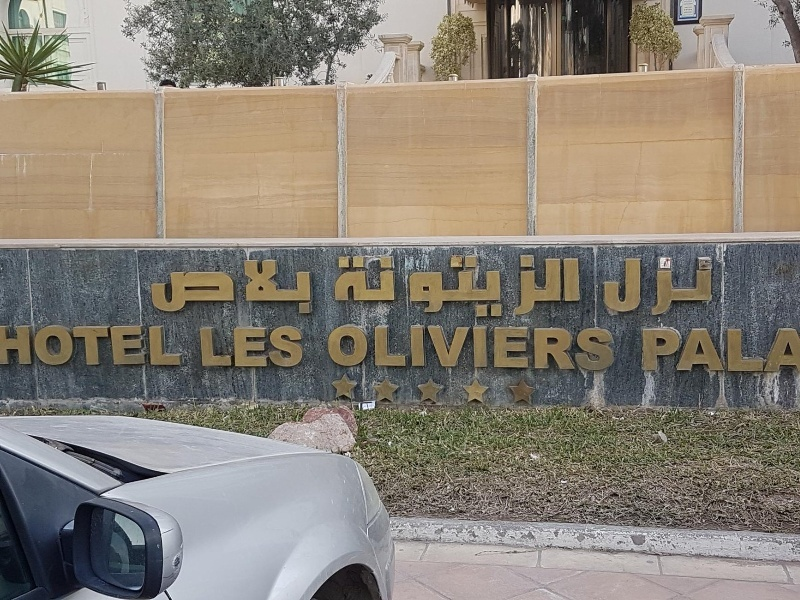text: (609, 255, 624, 317), (625, 255, 640, 317), (641, 255, 656, 317), (657, 255, 672, 317), (673, 255, 688, 317), (689, 255, 704, 317), (337, 255, 352, 317), (353, 255, 368, 317), (369, 255, 384, 317), (385, 255, 400, 317), (401, 255, 416, 317), (417, 255, 432, 317), (433, 255, 448, 317), (449, 255, 464, 317), (465, 255, 480, 317), (481, 255, 496, 317), (497, 255, 512, 317), (513, 255, 528, 317), (529, 255, 544, 317), (545, 255, 560, 317), (561, 255, 576, 317), (161, 259, 176, 315), (177, 259, 192, 315), (193, 259, 208, 315), (209, 259, 224, 315), (225, 259, 240, 315), (241, 259, 256, 315), (257, 259, 272, 315), (273, 259, 288, 315), (289, 259, 304, 315), (337, 325, 352, 371), (353, 325, 368, 371), (369, 325, 384, 371), (385, 325, 400, 371), (401, 325, 416, 371), (417, 325, 432, 371), (433, 325, 448, 371), (449, 325, 464, 371), (465, 325, 480, 371), (481, 325, 496, 371), (497, 325, 512, 371), (513, 325, 528, 371), (529, 325, 544, 371), (545, 325, 560, 371), (561, 325, 576, 371), (577, 325, 592, 371), (593, 325, 608, 371), (641, 328, 656, 373), (657, 328, 672, 373), (673, 328, 688, 373), (689, 328, 704, 373), (705, 328, 720, 373), (721, 328, 736, 373), (737, 328, 752, 373), (753, 328, 768, 373), (769, 328, 784, 373), (785, 328, 800, 373), (289, 326, 305, 368), (17, 324, 32, 367), (33, 324, 48, 367), (49, 324, 64, 367), (65, 324, 80, 367), (81, 324, 96, 367), (97, 324, 112, 367), (113, 324, 128, 367), (129, 324, 144, 367), (145, 324, 160, 367), (161, 324, 176, 367), (209, 326, 224, 368), (225, 326, 240, 368), (241, 326, 256, 368), (257, 326, 272, 368), (273, 326, 288, 368), (705, 255, 715, 317), (3, 324, 16, 367), (151, 259, 160, 315), (305, 259, 312, 315), (199, 326, 208, 368), (328, 325, 336, 371), (609, 325, 616, 371), (177, 324, 184, 367), (577, 255, 581, 317), (605, 255, 608, 317), (334, 255, 336, 317)
